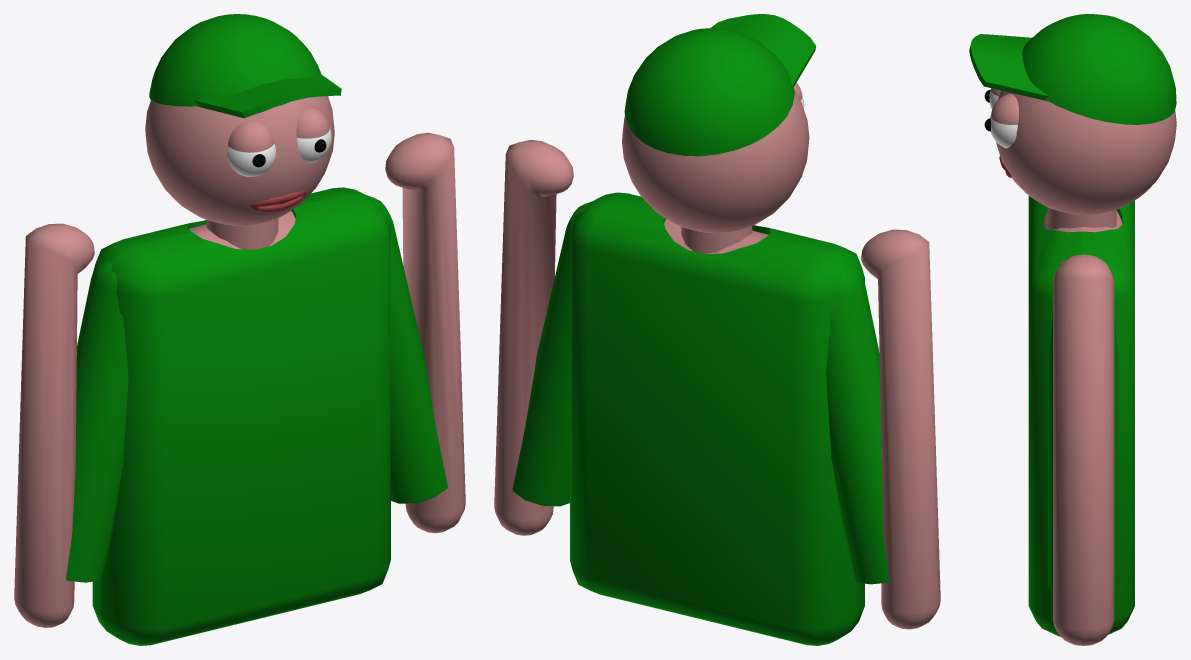
The model's file is guy2_dressed.fbx.
3 views of the same model, side by side, from view 1: azimuth 30°, elevation 25°; view 2: azimuth 150°, elevation 25°; view 3: azimuth 270°, elevation 25° (orthographic). The views are drawn at different scales.
Visible parts, largest first — view 1: shirt, arm R, arm L, Head, Capsule002, hat, Capsule001, hat part, neck, eyelid R, eyeball R, eyelid L (+2 smaller); view 2: shirt, arm R, arm L, hat, Capsule002, Head, Capsule001, hat part, neck, body; view 3: arm L, shirt, Head, hat, hat part, Capsule001, neck, eyelid L, eyeball L, body.
Part boxes in pixels (x1=…): shirt: x1=92, y1=187, x2=390, y2=645; arm R: x1=14, y1=223, x2=94, y2=627; arm L: x1=385, y1=132, x2=465, y2=533; Head: x1=145, y1=96, x2=334, y2=225; Capsule002: x1=66, y1=259, x2=128, y2=582; hat: x1=149, y1=14, x2=321, y2=106; Capsule001: x1=366, y1=195, x2=447, y2=503; hat part: x1=193, y1=72, x2=341, y2=118; neck: x1=206, y1=218, x2=278, y2=249; eyelid R: x1=228, y1=121, x2=274, y2=152; eyeball R: x1=227, y1=143, x2=275, y2=176; eyelid L: x1=296, y1=106, x2=329, y2=138; shirt: x1=570, y1=192, x2=864, y2=645; arm R: x1=861, y1=229, x2=940, y2=629; arm L: x1=494, y1=140, x2=573, y2=535; hat: x1=624, y1=28, x2=794, y2=156; Capsule002: x1=826, y1=266, x2=889, y2=584; Head: x1=622, y1=89, x2=809, y2=233; Capsule001: x1=512, y1=201, x2=592, y2=506; hat part: x1=710, y1=14, x2=815, y2=86; neck: x1=681, y1=226, x2=752, y2=253; body: x1=664, y1=219, x2=768, y2=254; arm L: x1=1053, y1=254, x2=1114, y2=645; shirt: x1=1028, y1=196, x2=1134, y2=636; Head: x1=996, y1=90, x2=1176, y2=215; hat: x1=1022, y1=14, x2=1176, y2=124; hat part: x1=969, y1=34, x2=1049, y2=101; Capsule001: x1=1048, y1=313, x2=1118, y2=589; neck: x1=1047, y1=207, x2=1116, y2=229; eyelid L: x1=991, y1=93, x2=1018, y2=124; eyeball L: x1=990, y1=115, x2=1017, y2=148; body: x1=1043, y1=211, x2=1122, y2=232.
Size of the model in its own units: 71.55 by 90.78 by 30.21.
